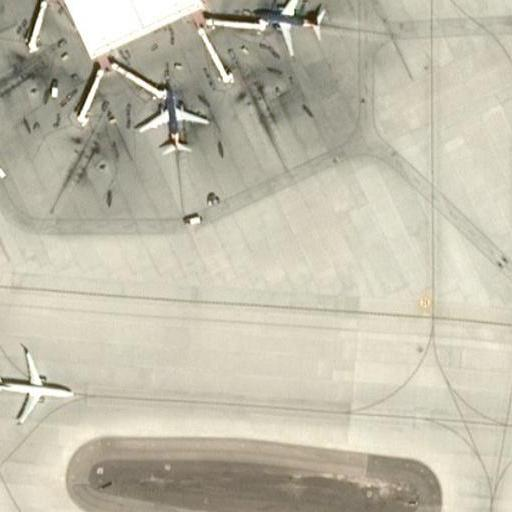Aircraft: (132, 80, 211, 158), (0, 340, 73, 424), (248, 0, 331, 57), (0, 0, 6, 22)
